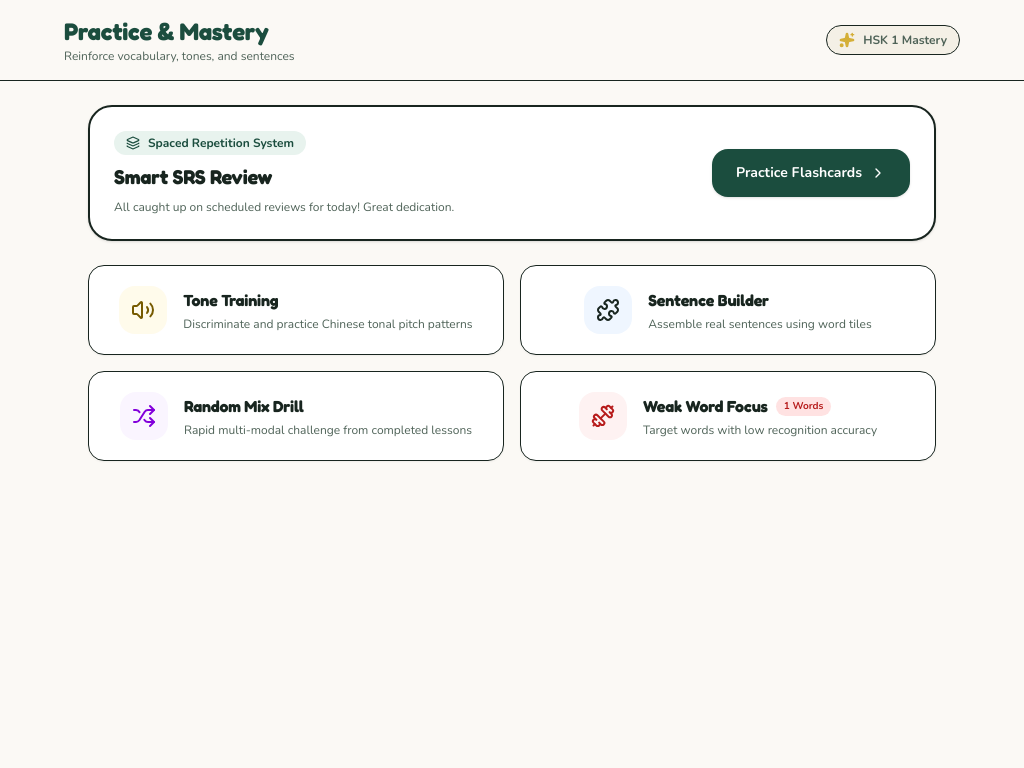
PracticePage Drills Coverage › starts Tone Training drill and exits back to menu
The width and height of the screenshot is (1024, 768).
What coordinates should you click on to do the following:
click the heading "Tone Training"
I would click on:
 (231, 300)
Its box is [183,290,278,310].
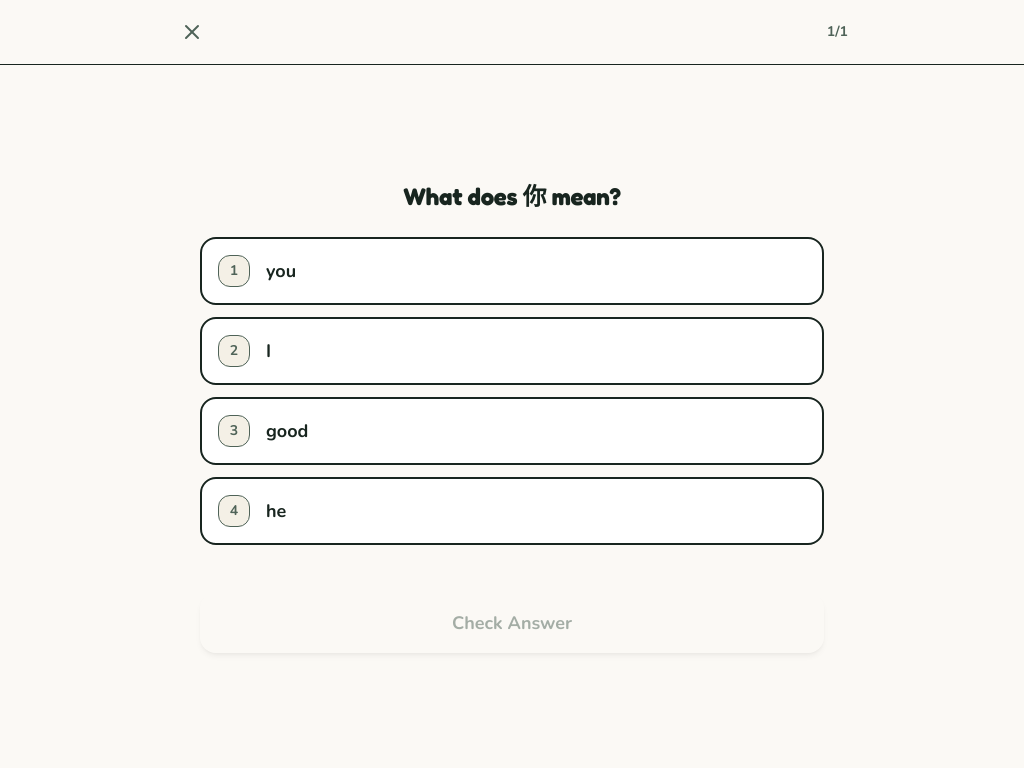
Expected: the button named "Exit exercise" is shown
What coordinates should you click on to do the following:
click the button named "Exit exercise"
I would click on:
 (192, 32)
Its box is [176,16,208,48].
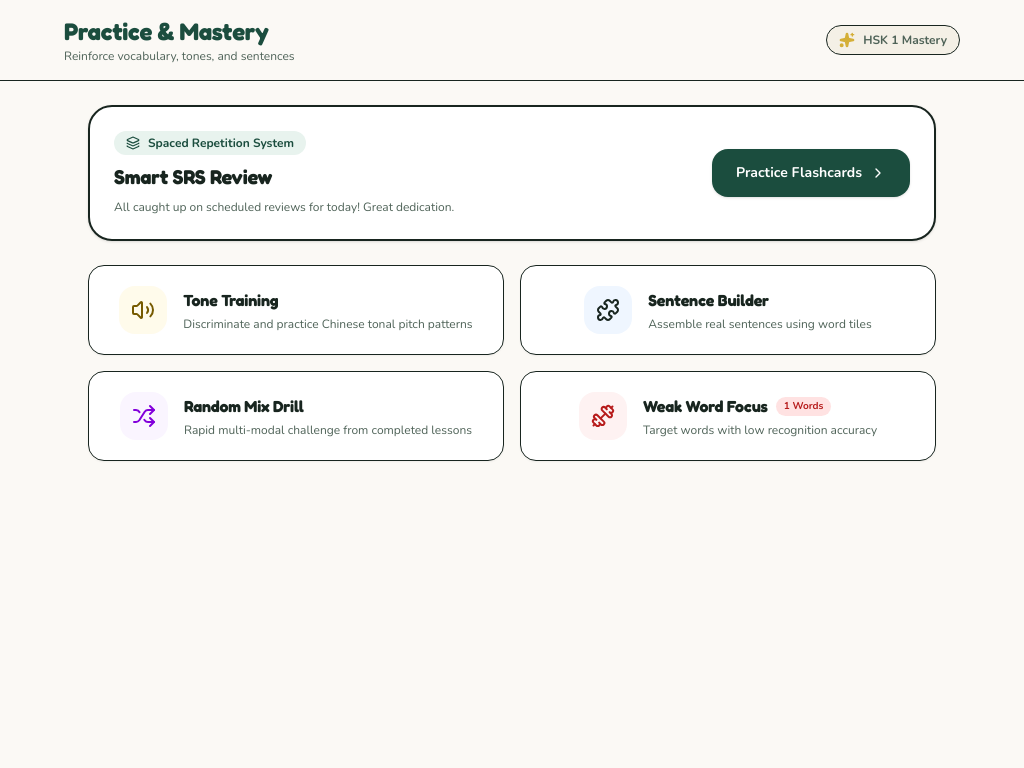
Expected: the heading "Practice & Mastery" is shown, [64,16,295,48]
